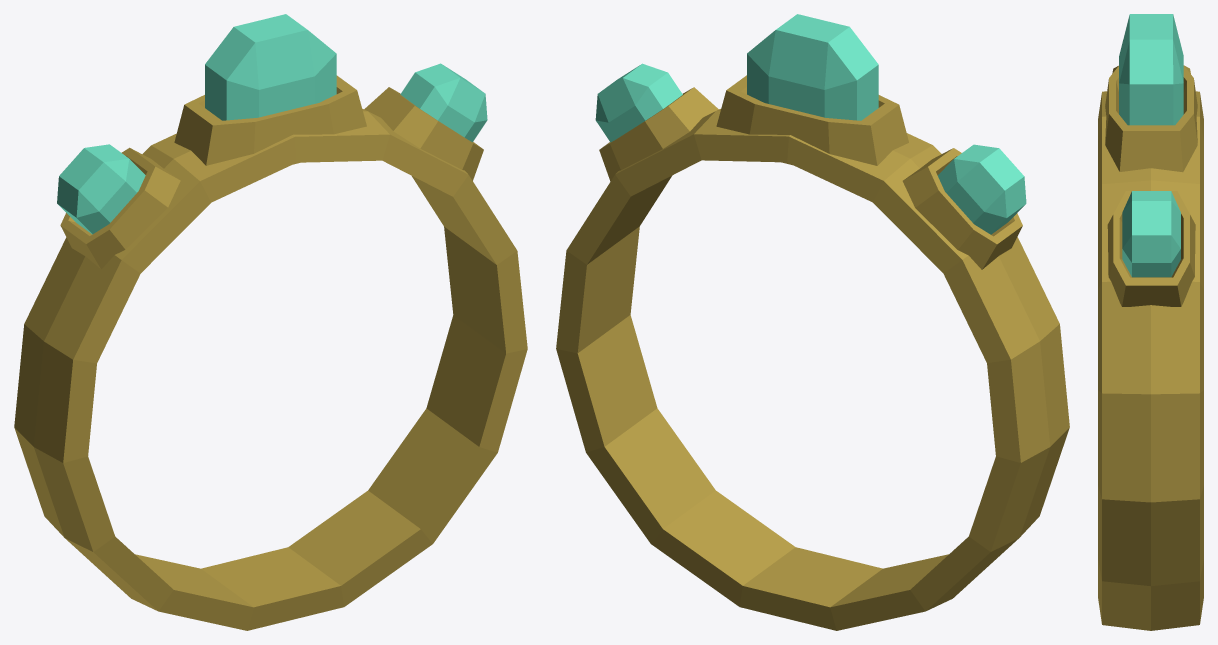
File: ring4.glb
3 renders of one model, left to right at view 1: azimuth 30°, elevation 25°; view 2: azimuth 150°, elevation 25°; view 3: azimuth 270°, elevation 25°, orthographic.
Visible parts, largest first — view 1: Ring4; view 2: Ring4; view 3: Ring4.
Boxes of the visible parts, x1,y1,x2,y2 form: Ring4: (14,14,527,630); Ring4: (556,14,1069,630); Ring4: (1098,14,1203,630).
Bounding box in the file's own units: 0.6635 × 0.7719 × 0.128.
